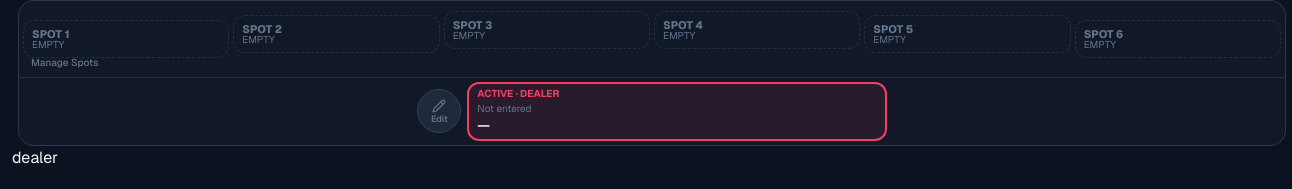
Test case: TableMap — normal tap › tapping an empty seat occupies/selects it, and opens no options sheet
The width and height of the screenshot is (1292, 189).
Click the button "SPOT 3 EMPTY": point(547, 30) [444,11,650,49]
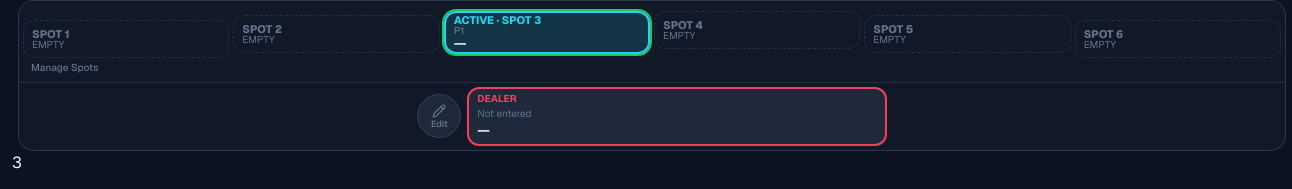
Check: the text with test id "active-target" reads "3", box [12,152,22,172]
